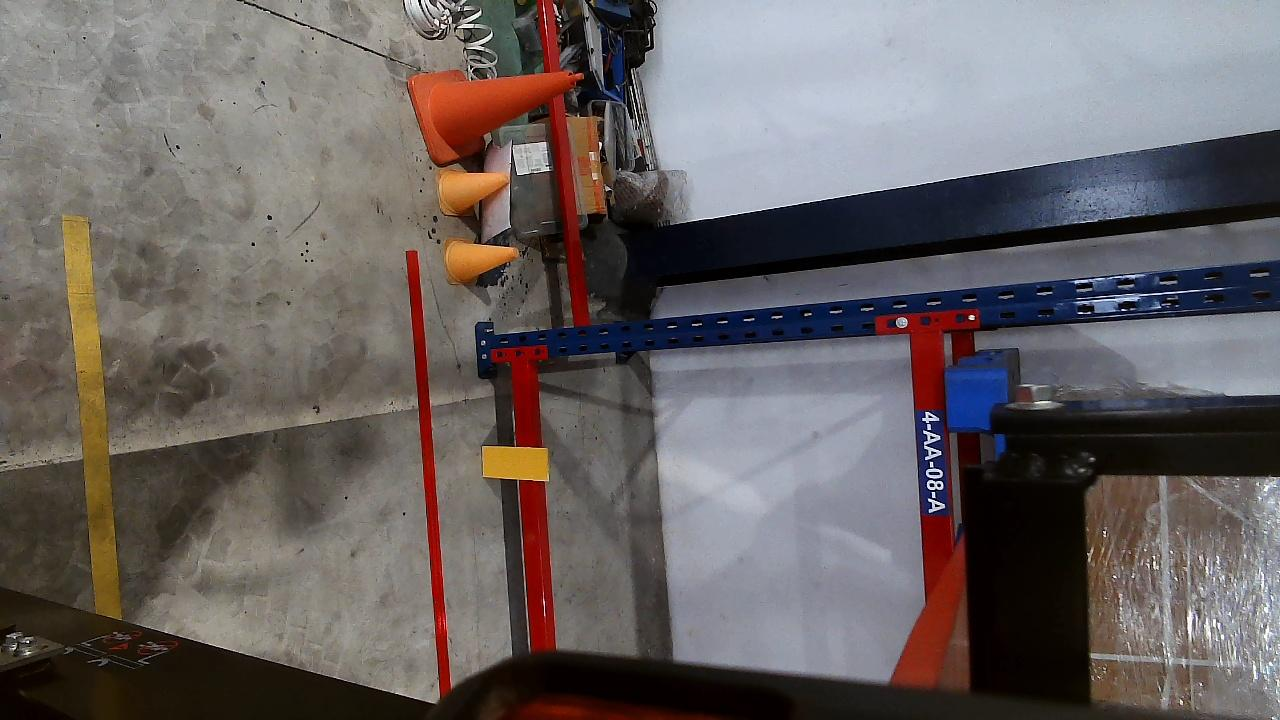h_rack: (904, 326, 965, 688), (509, 359, 555, 650)
orange_strip: (482, 446, 550, 480)
red_line: (409, 250, 452, 692)
yellow_line: (58, 214, 119, 617)
